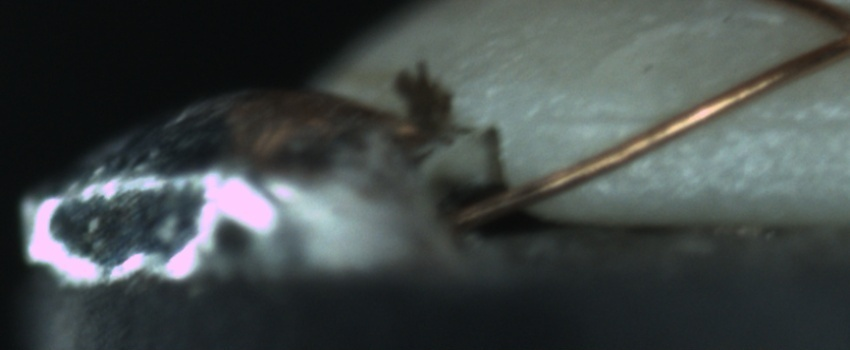DL: (544, 89, 848, 151)
